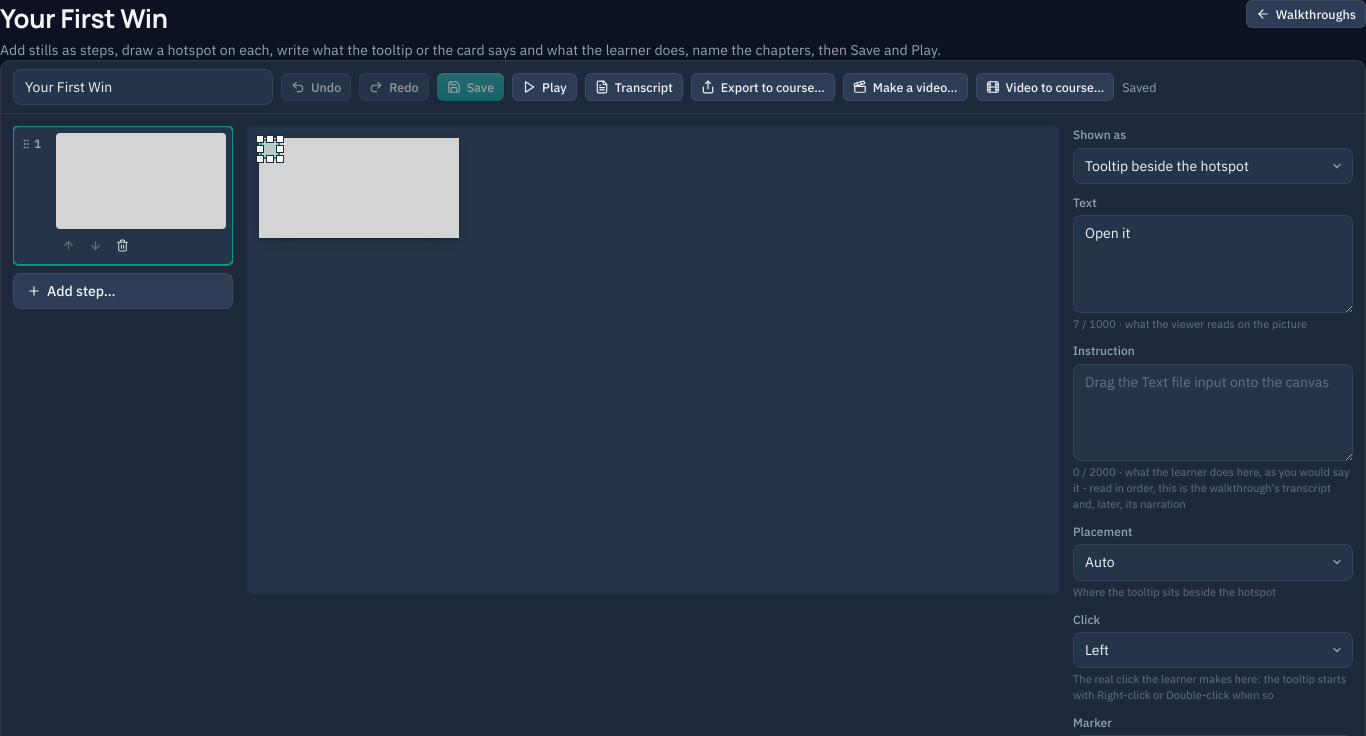
Test case: Video to course… (R1) › greys the button out without a token and says so; says the setting is off
Click the button "Video to course…" at (1045, 87), box [976,73,1114,101]
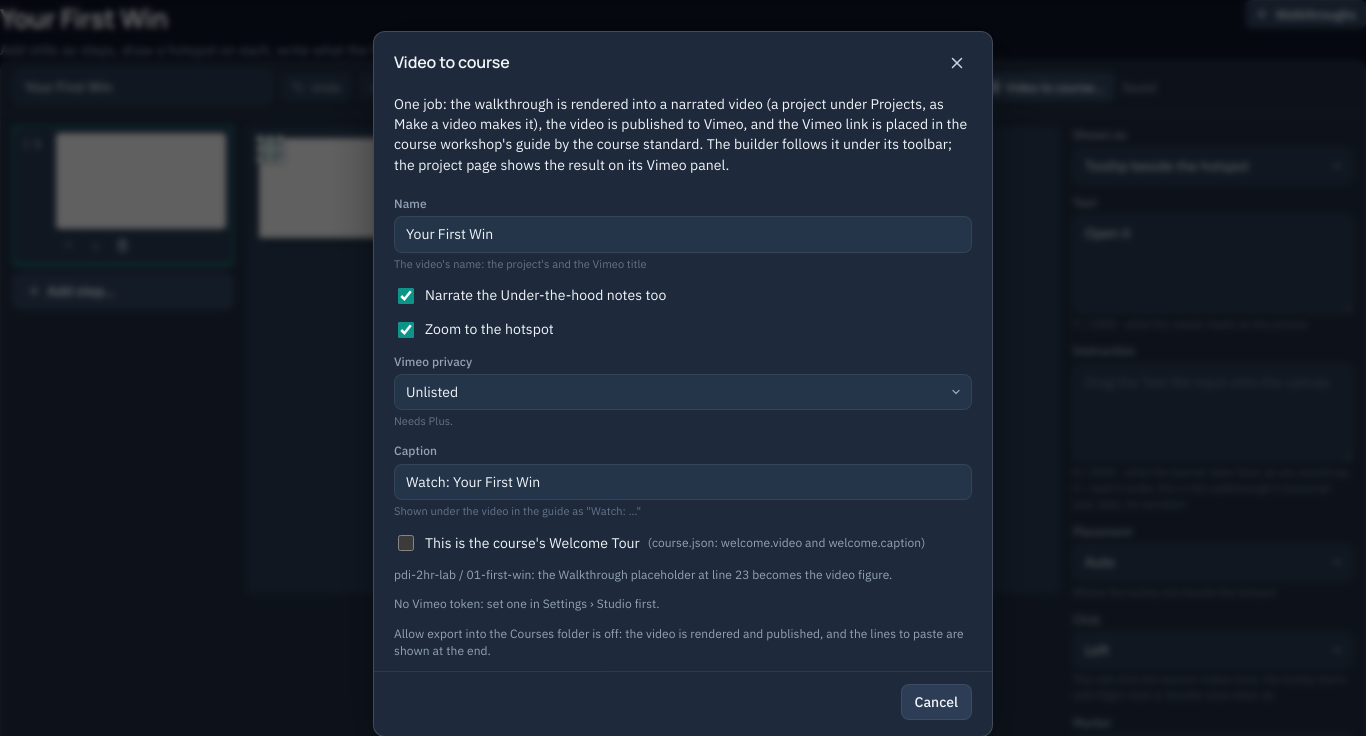
Expected: the text "No Vimeo token: set one in Settings › Studio first." is shown, [394,596,660,611]
Expected: the text "is off: the video is rendered and published, and the lines to paste are shown at the end" is shown, [394,626,964,658]
